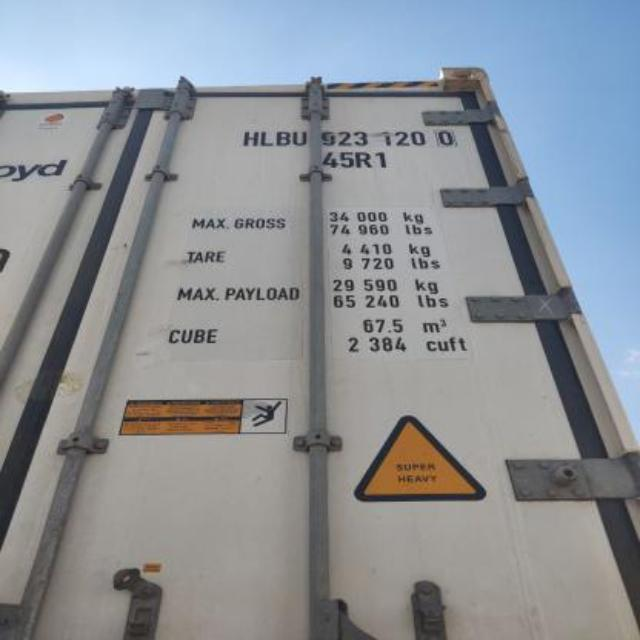0: (434, 126, 458, 150), (410, 123, 426, 149)
1: (376, 124, 394, 146)
2: (334, 124, 356, 148), (394, 122, 410, 150)
3: (352, 124, 368, 148)
9: (322, 125, 334, 149)
B: (273, 125, 291, 149)
H: (241, 124, 261, 148)
L: (259, 123, 275, 149)
U: (291, 125, 309, 149)
